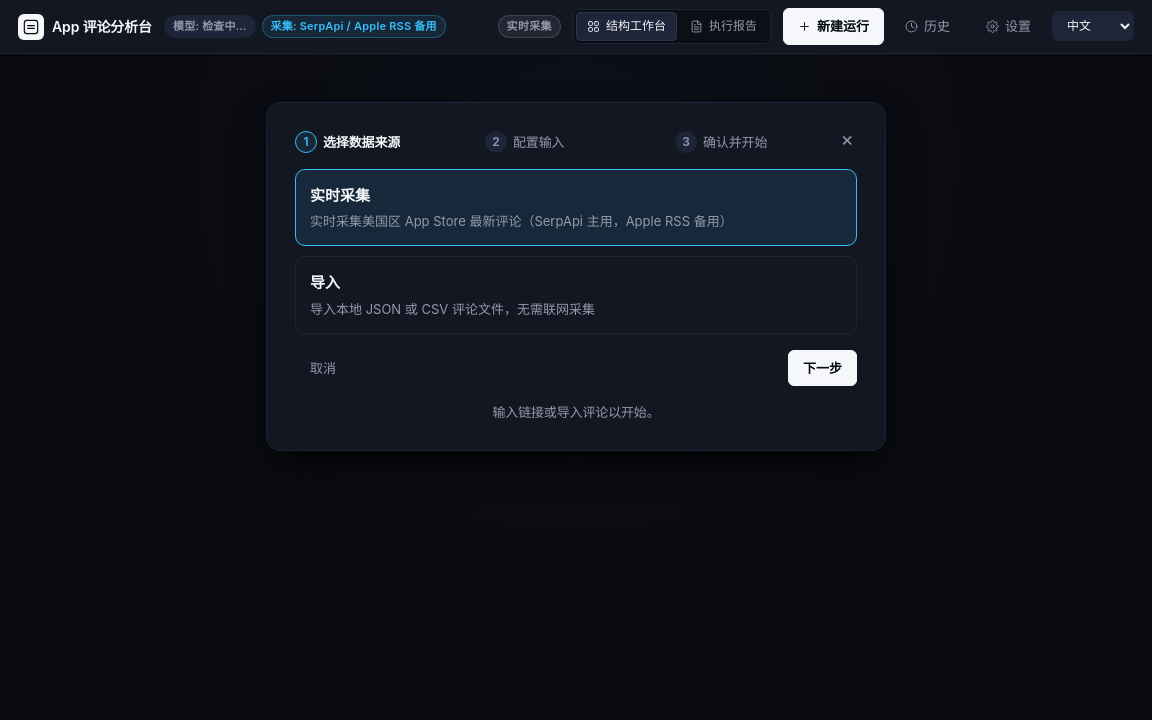
Workbench settings integration › switches to a 'starting' state the moment a run starts, before any event arrives
The image size is (1152, 720).
Click the radio button labelled "实时采集 实时采集美国区 App Store 最新评论（SerpApi 主用，Apple RSS 备用）". click: (340, 196)
box: [295,169,857,246]
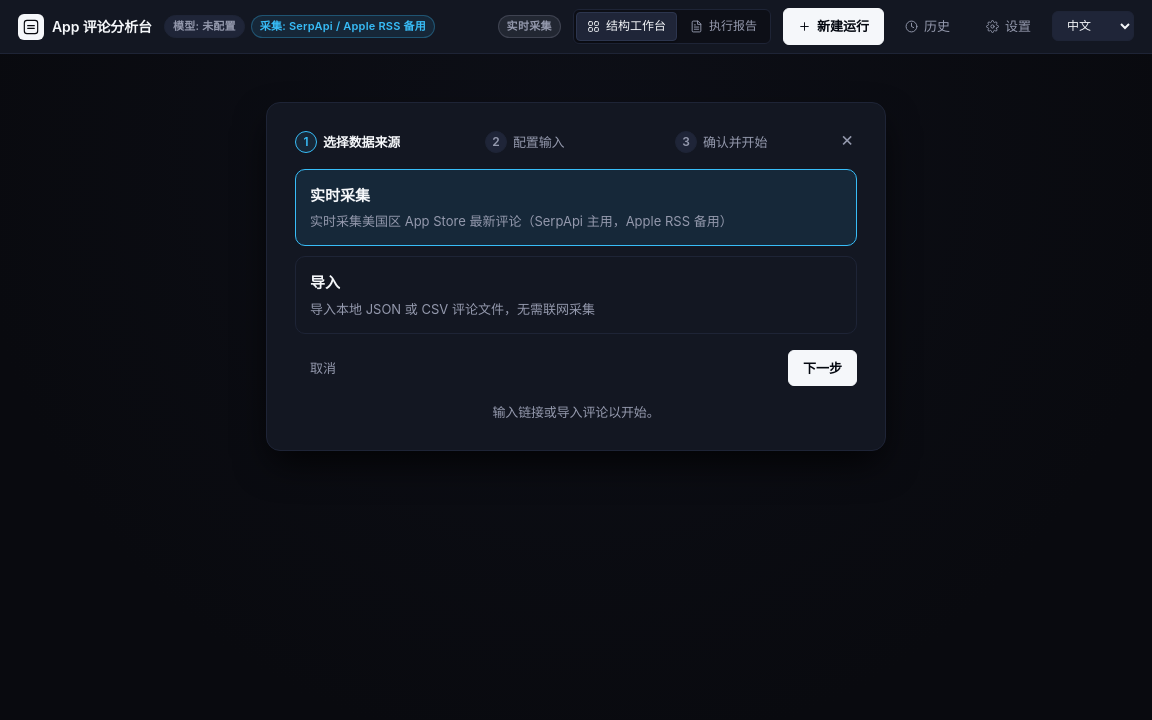
Click the button "下一步". click: (822, 368)
box: [788,350,857,386]
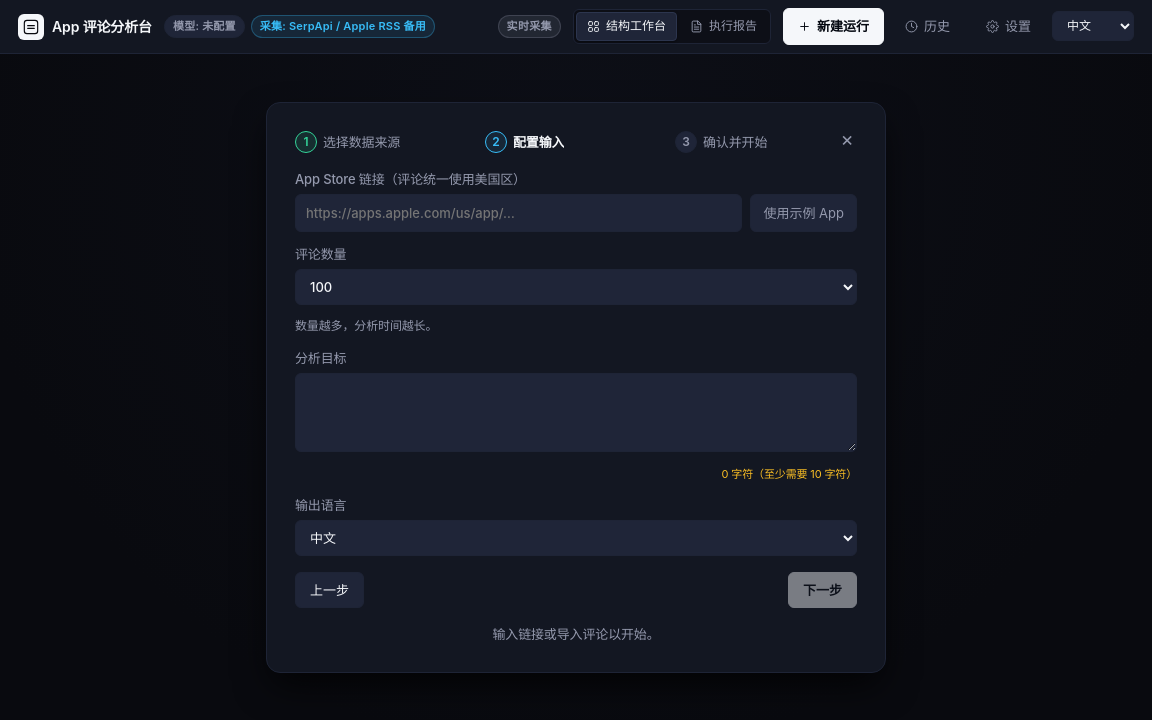
Click the button "使用示例 App". click: (804, 213)
box: [750,194,857,232]
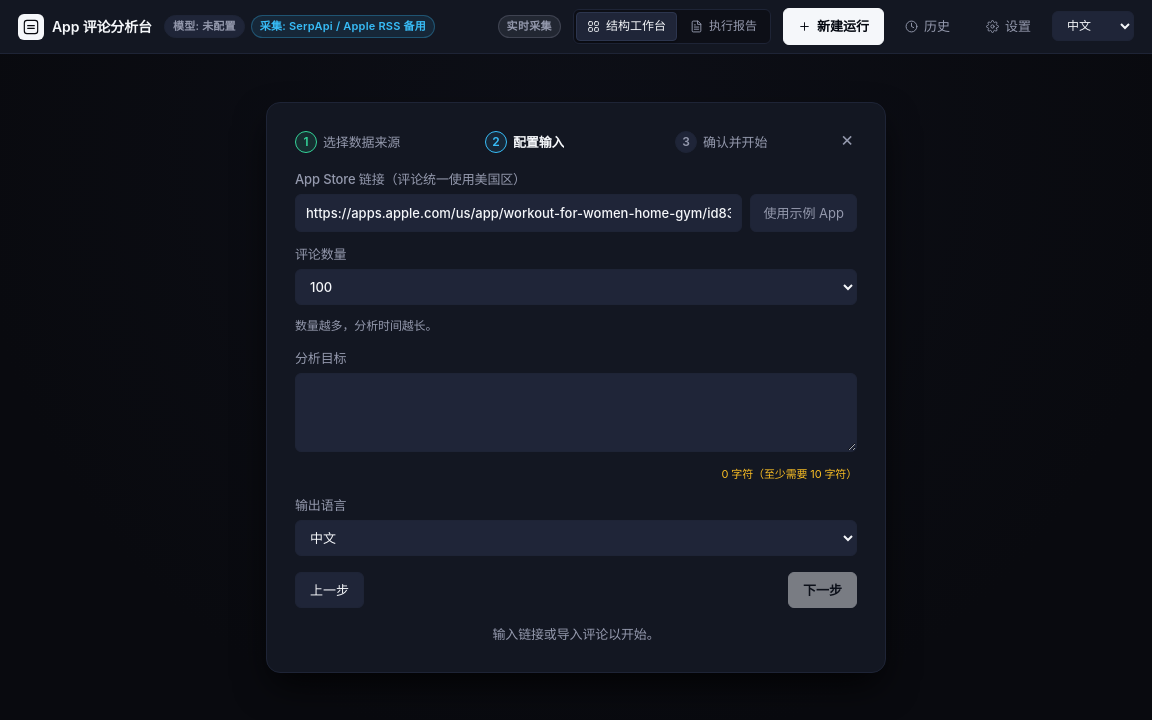
Type "理解用户为什么喜欢这个应用" into the text box labelled "分析目标". click: (576, 412)
box: [295,373,857,452]
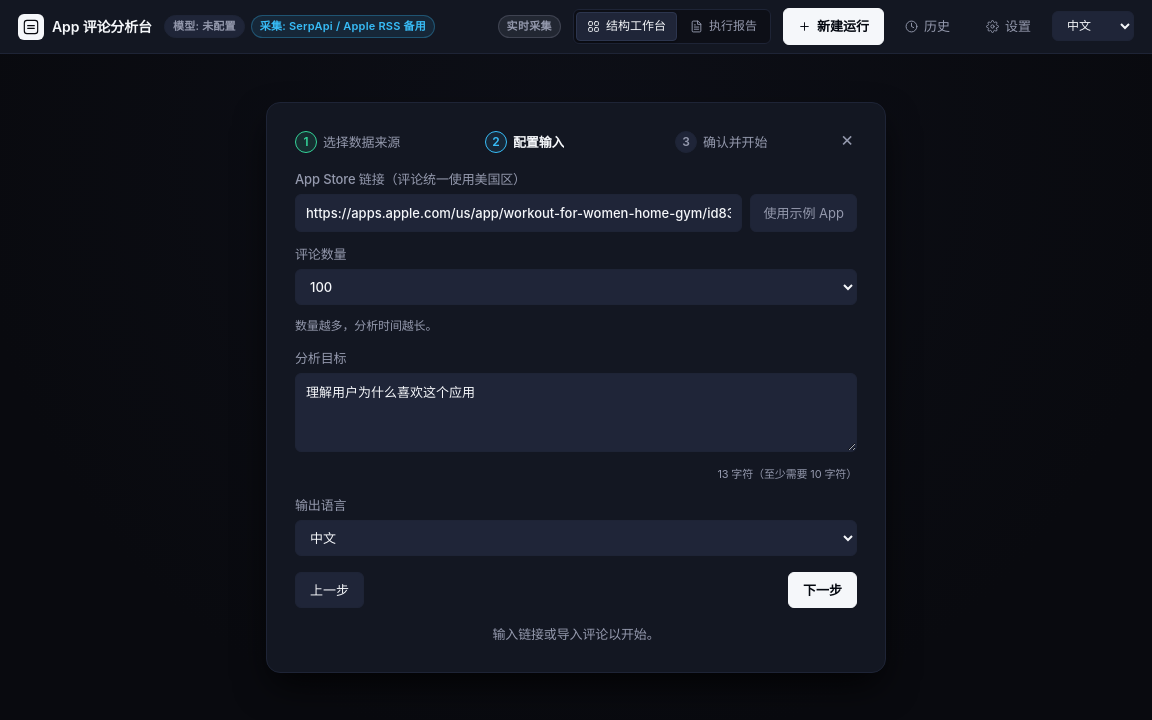
Click the button "下一步". click: (822, 590)
box: [788,572,857,608]
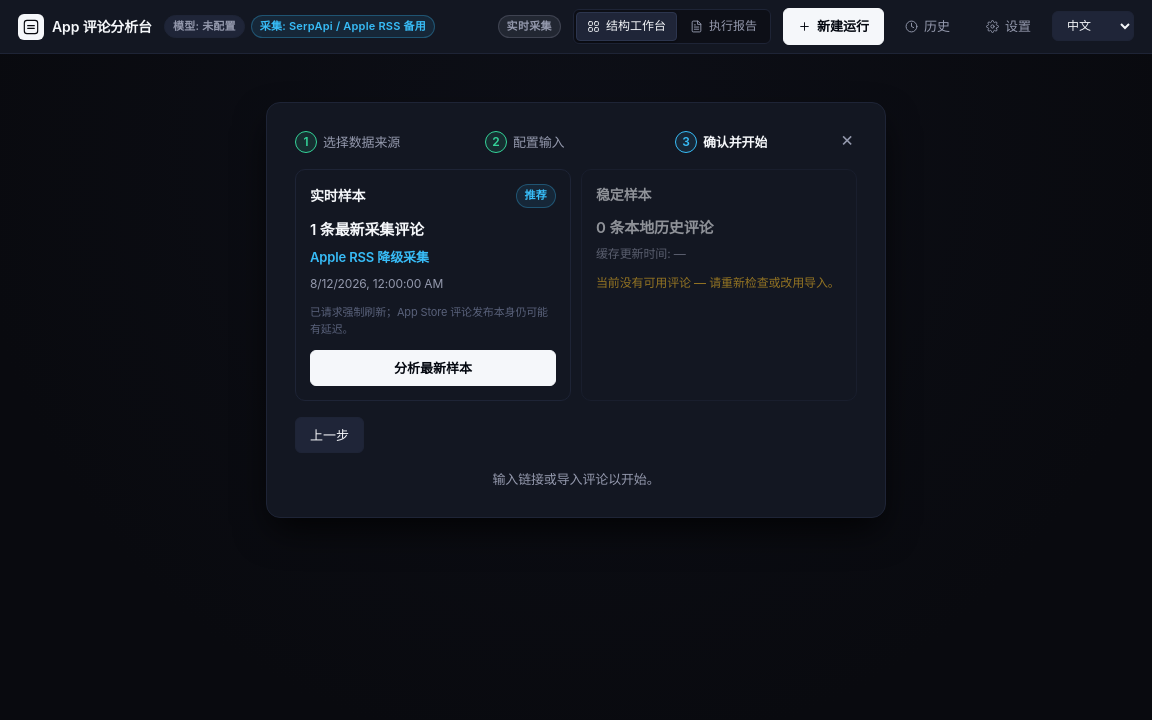
Now the button "分析最新样本" is shown
Click the button "分析最新样本". click: (433, 368)
box: [310,350,556,386]
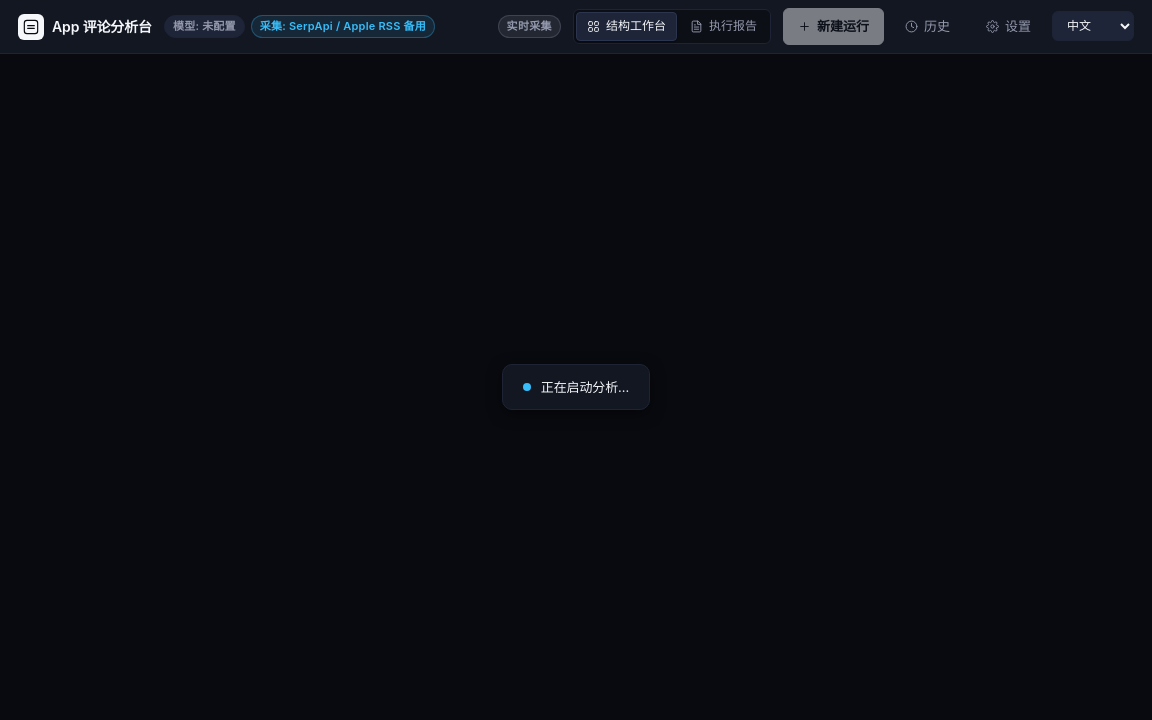
Now the button "分析最新样本" is gone
Now the button "新建运行" is disabled, box [783,8,884,44]
